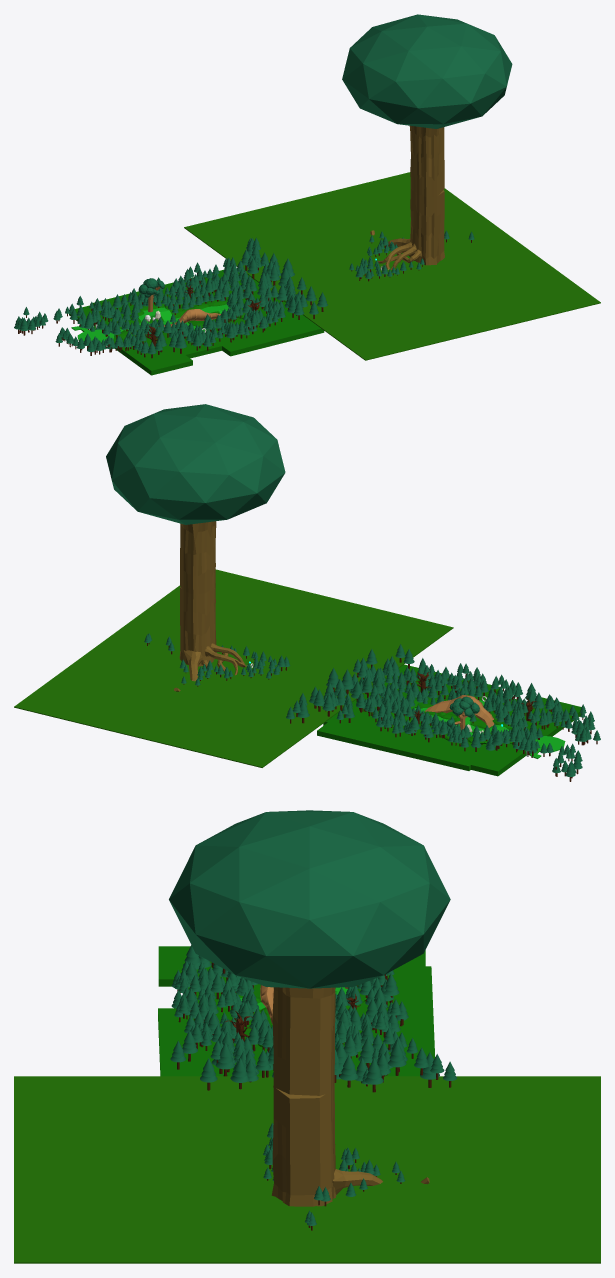
File:  forestPathsFull.fbx
3 views of the same model, one above another, from view 1: azimuth 30°, elevation 25°; view 2: azimuth 150°, elevation 25°; view 3: azimuth 270°, elevation 25° (orthographic). The views are drawn at different scales.
Visible parts, largest first — view 1: floor, Icosphere, worldTree.001, worldTree, Cube.053, Cube.048, floor.001; view 2: floor, Icosphere, Cube.049, worldTree.001, worldTree, Cube.048, floor.001, Cube.050; view 3: floor, Icosphere, worldTree, worldTree.001, Cube.049, Cube.053, Cube.048, root.004, Cube.051.
Boxes of the visible parts, x1,y1,x2,y2 form: floor: (184, 172, 600, 360); Icosphere: (342, 14, 512, 128); worldTree.001: (409, 125, 444, 197); worldTree: (408, 188, 444, 265); Cube.053: (215, 315, 324, 356); Cube.048: (69, 304, 192, 375); floor.001: (71, 304, 230, 342); floor: (14, 569, 453, 767); Icosphere: (106, 404, 285, 524); Cube.049: (317, 722, 488, 770); worldTree.001: (180, 521, 216, 596); worldTree: (179, 585, 216, 666); Cube.048: (471, 697, 581, 776); floor.001: (414, 695, 565, 758); Cube.050: (323, 709, 435, 744); floor: (14, 1076, 600, 1263); Icosphere: (169, 810, 450, 988); worldTree: (271, 1084, 336, 1206); worldTree.001: (272, 987, 335, 1095); Cube.049: (356, 966, 435, 1076); Cube.053: (158, 1008, 223, 1076); Cube.048: (158, 946, 425, 986); root.004: (332, 1169, 429, 1194); Cube.051: (216, 1008, 273, 1076).
Size of the model in its own units: 119502 by 62849 by 80000.
